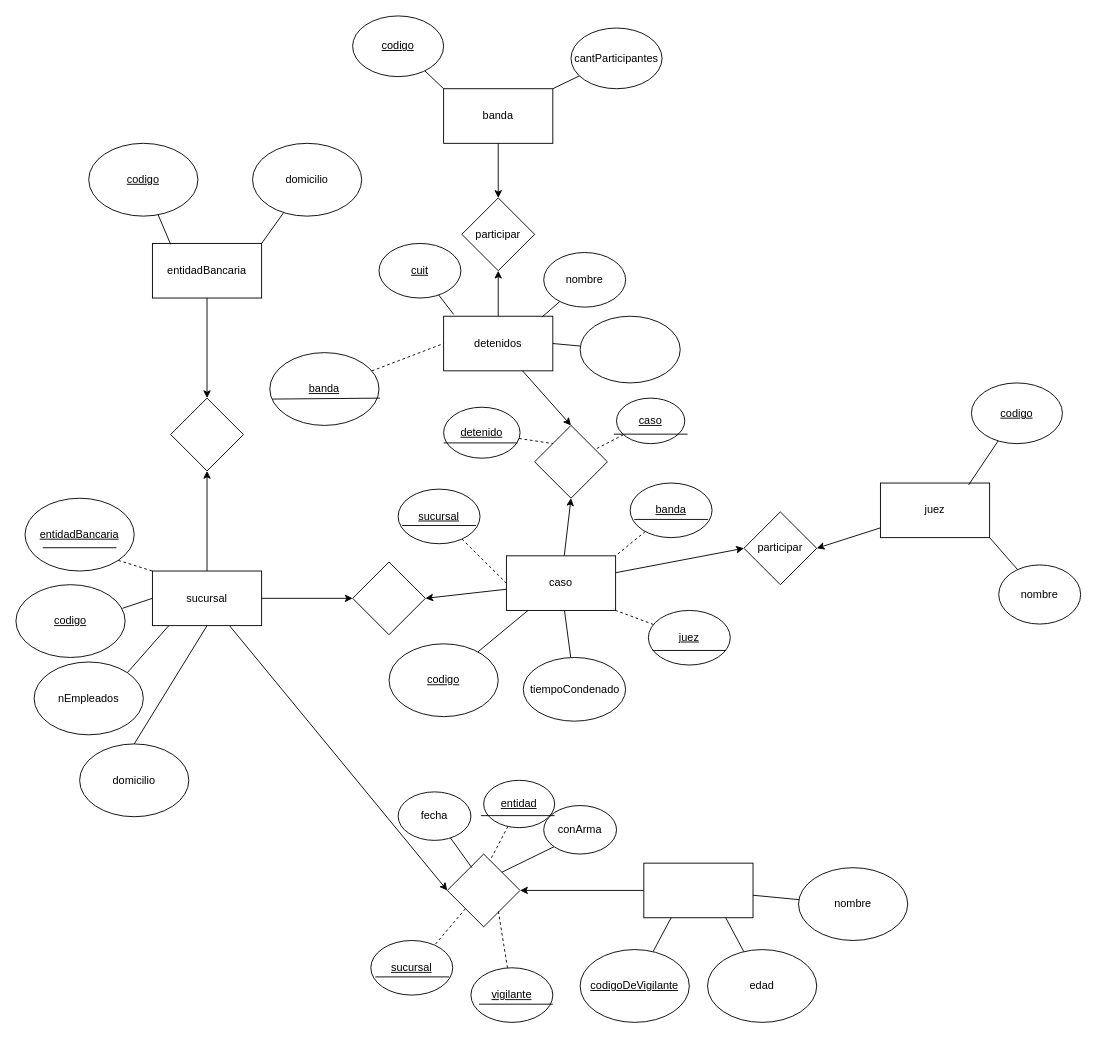
The diagram is 1097 pixels wide and 1038 high, and some of its shapes have lost their labels. The centre of each missing label's shape, as x and y in pixels:
"acusado" goes at point (570, 461).
"alojar" goes at point (206, 434).
"apellido" goes at point (629, 349).
"contratar" goes at point (483, 890).
"estar" goes at point (388, 598).
"vigilantesJurados" goes at point (698, 890).
